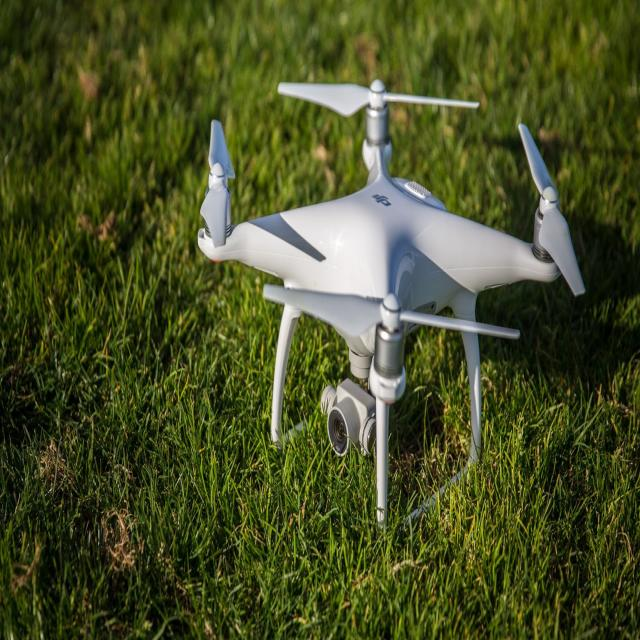Drone_FW: (196, 77, 586, 537)
